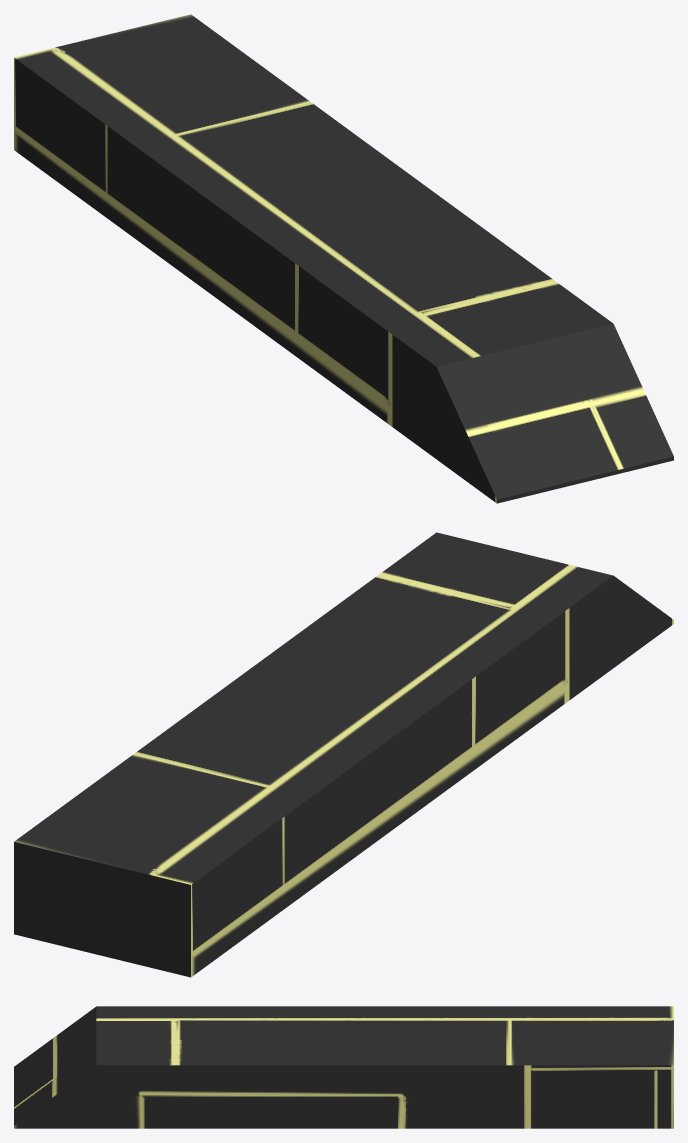
File: ObstacleLowWithLane.fbx
3 views of the same model, one above another, from view 1: azimuth 30°, elevation 25°; view 2: azimuth 150°, elevation 25°; view 3: azimuth 270°, elevation 25° (orthographic). The views are drawn at different scales.
Visible parts, largest first — view 1: ObstacleLowWithLane; view 2: ObstacleLowWithLane; view 3: ObstacleLowWithLane.
Boxes of the visible parts, left/top/right/bottom form: ObstacleLowWithLane: left=14, top=14, right=673, bottom=503; ObstacleLowWithLane: left=14, top=532, right=673, bottom=977; ObstacleLowWithLane: left=14, top=1006, right=673, bottom=1128.
Bounding box in the file's own units: 50 × 25 × 236.
